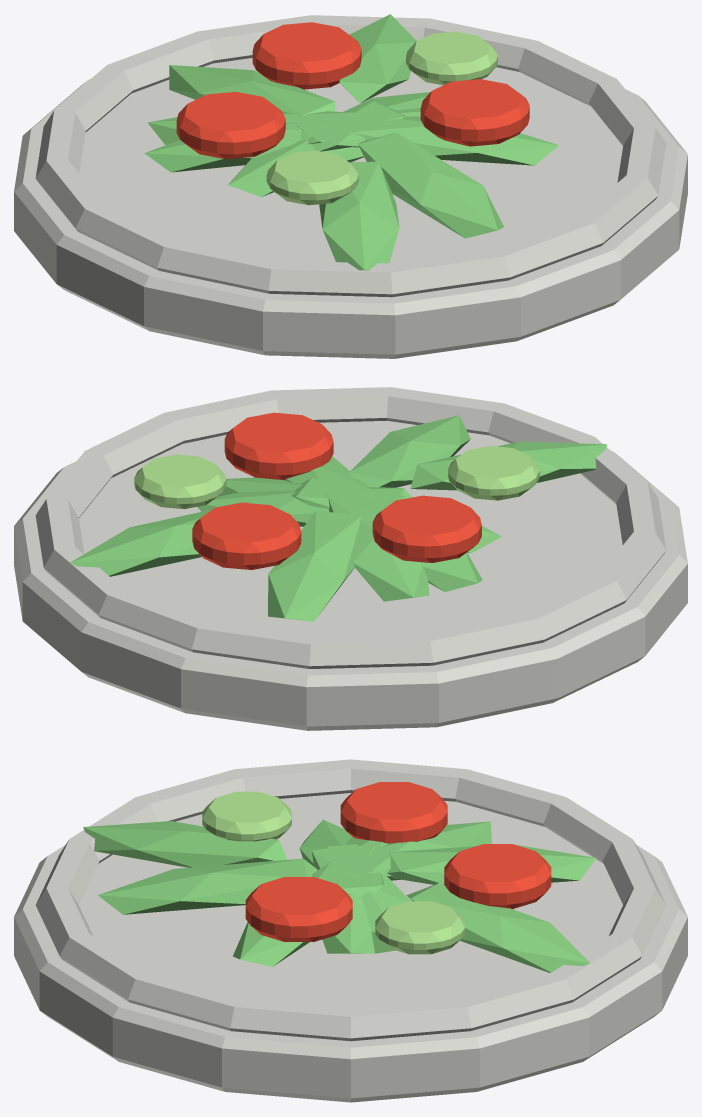
The model's file is garden_salad.glb.
3 views of the same model, one above another, from view 1: azimuth 30°, elevation 25°; view 2: azimuth 150°, elevation 25°; view 3: azimuth 270°, elevation 25° (orthographic).
Visible parts, largest first — view 1: FTF_Dish_GardenSalad_StaticMesh; view 2: FTF_Dish_GardenSalad_StaticMesh; view 3: FTF_Dish_GardenSalad_StaticMesh.
Part boxes in pixels (x1,y1,x2,y2): FTF_Dish_GardenSalad_StaticMesh: (14, 14, 687, 358); FTF_Dish_GardenSalad_StaticMesh: (14, 387, 687, 730); FTF_Dish_GardenSalad_StaticMesh: (14, 759, 687, 1102).
Bounding box in the file's own units: 0.78 × 0.1475 × 0.78.
